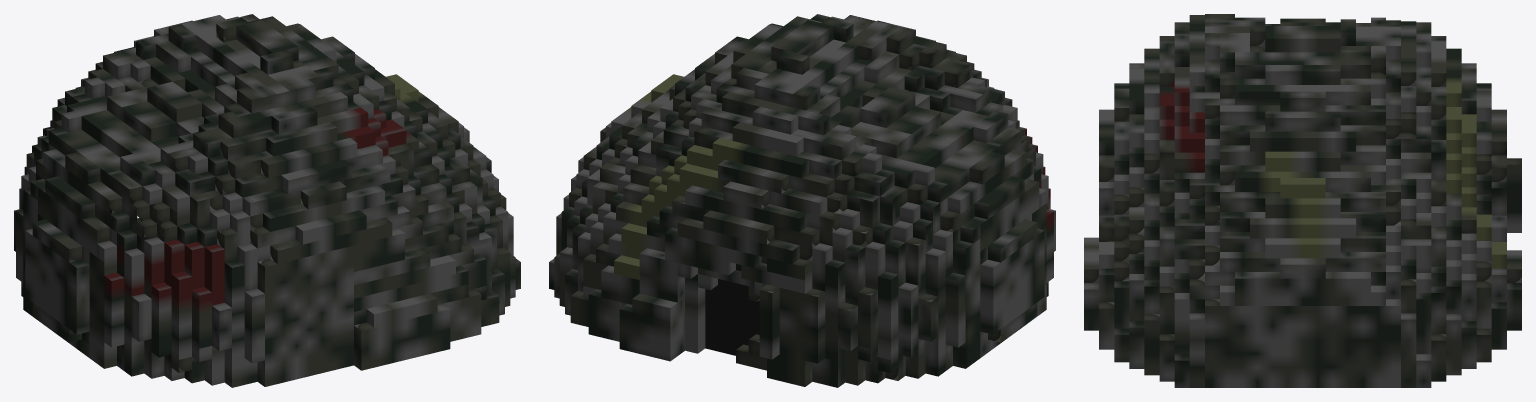
The model's file is siedliskoszczorow.dae.
3 renders of one model, left to right at view 1: azimuth 30°, elevation 25°; view 2: azimuth 150°, elevation 25°; view 3: azimuth 270°, elevation 25°, orthographic. The views are drawn at different scales.
Parts seen in each view (by area): view 1: Content; view 2: Content; view 3: Content.
Part boxes in pixels (x1,y1,x2,y2): Content: [14, 14, 520, 387]; Content: [549, 14, 1055, 387]; Content: [1084, 14, 1521, 387].
Bounding box in the file's own units: 32 × 19 × 29.
Materials: 1 (1 with a texture image).
